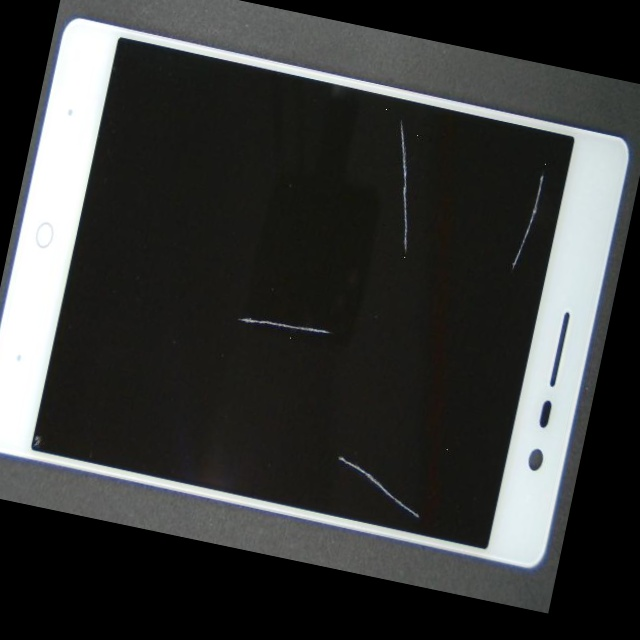scratch: (75, 174, 593, 608), (52, 138, 383, 507), (241, 118, 637, 398), (232, 38, 581, 181)
